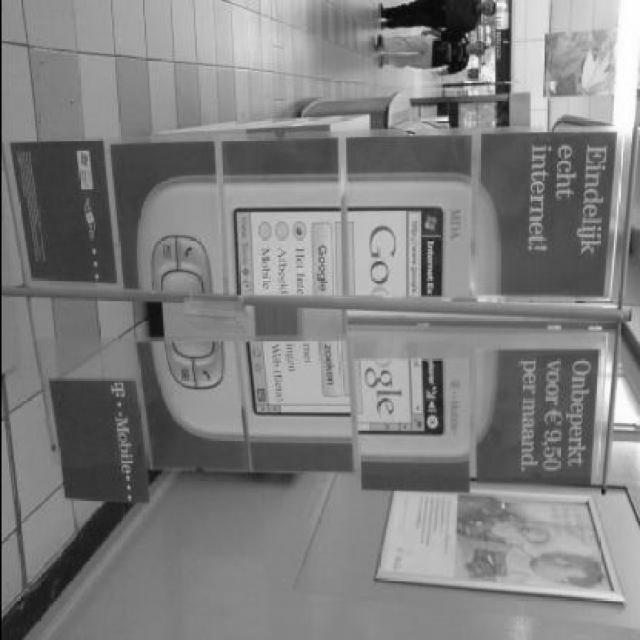fake: (147, 170, 501, 442)
